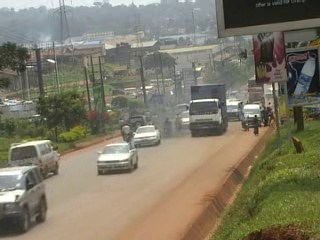Car: (0, 162, 48, 236), (95, 140, 139, 175), (133, 123, 161, 148), (125, 114, 147, 131), (179, 108, 193, 129)
Motorcycle: (236, 109, 251, 133), (120, 120, 131, 142), (172, 111, 182, 131), (162, 115, 171, 136)
